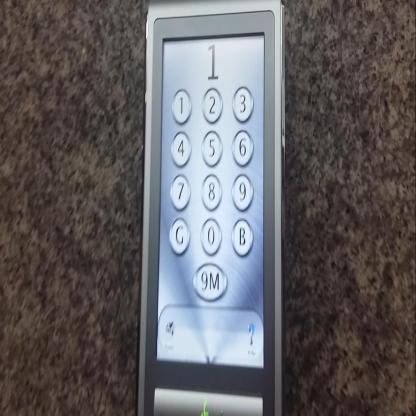0: (198, 214, 223, 258)
1: (170, 85, 192, 126)
2: (200, 85, 223, 125)
3: (230, 83, 254, 124)
4: (168, 128, 192, 168)
5: (200, 127, 224, 168)
6: (230, 127, 254, 168)
7: (168, 171, 192, 211)
8: (199, 171, 223, 212)
9: (230, 171, 254, 212)
9M: (191, 258, 228, 303)
B: (229, 214, 255, 259)
G: (167, 213, 192, 256)
